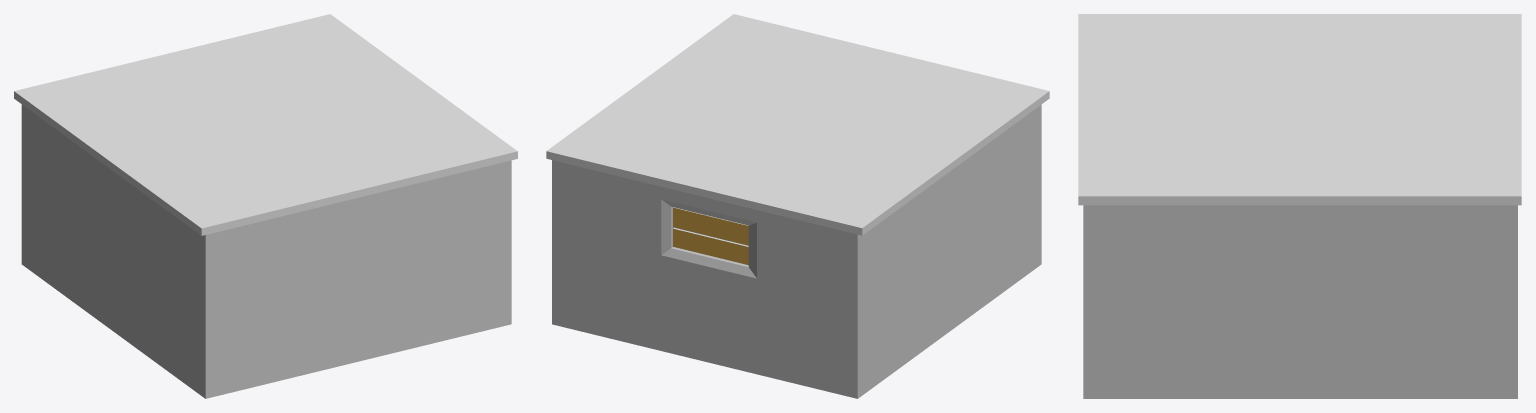
Rendered from FloorPlan402.fbx.
The picture shows the model from 3 angles, left to right: view 1: azimuth 30°, elevation 25°; view 2: azimuth 150°, elevation 25°; view 3: azimuth 270°, elevation 25°; orthographic projection. The views are drawn at different scales.
Parts seen in each view (by area): view 1: Cube.1277, Cube.060; view 2: Cube.1277, Cube.060; view 3: Cube.060, Cube.1277.
Boxes of the visible parts, <box> form: Cube.1277: <box>21,104,511,398</box>; Cube.060: <box>14,14,517,235</box>; Cube.1277: <box>552,104,1041,398</box>; Cube.060: <box>546,14,1049,235</box>; Cube.060: <box>1078,14,1521,205</box>; Cube.1277: <box>1083,205,1517,398</box>.
Size of the model in its own units: 522 by 276 by 537.
